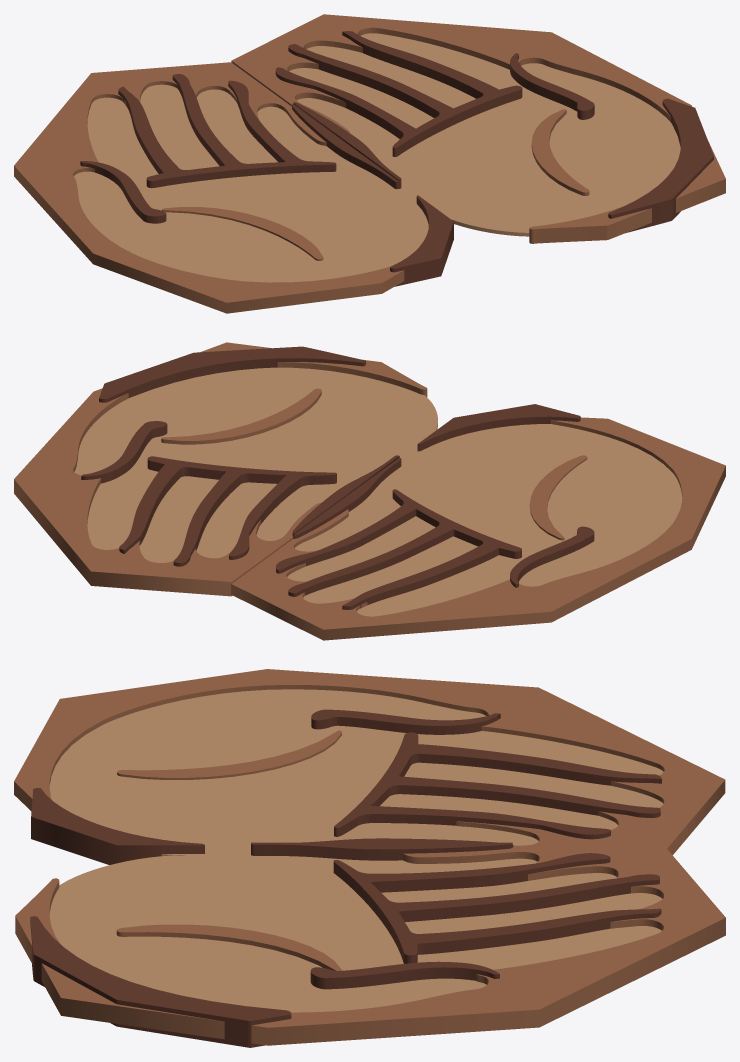
Rendered from emoji_u1f932_1f3fd.glb.
3 views of the same model, one above another, from view 1: azimuth 30°, elevation 25°; view 2: azimuth 150°, elevation 25°; view 3: azimuth 270°, elevation 25° (orthographic). The views are drawn at different scales.
Visible parts, largest first — view 1: emoji_u1f932_1f3fd; view 2: emoji_u1f932_1f3fd; view 3: emoji_u1f932_1f3fd.
Boxes of the visible parts, bbox=[...] form: emoji_u1f932_1f3fd: bbox=[14, 14, 725, 313]; emoji_u1f932_1f3fd: bbox=[14, 342, 725, 640]; emoji_u1f932_1f3fd: bbox=[14, 669, 725, 1047].
Bounding box in the file's own units: 0.0347 × 0.0012 × 0.0289.
